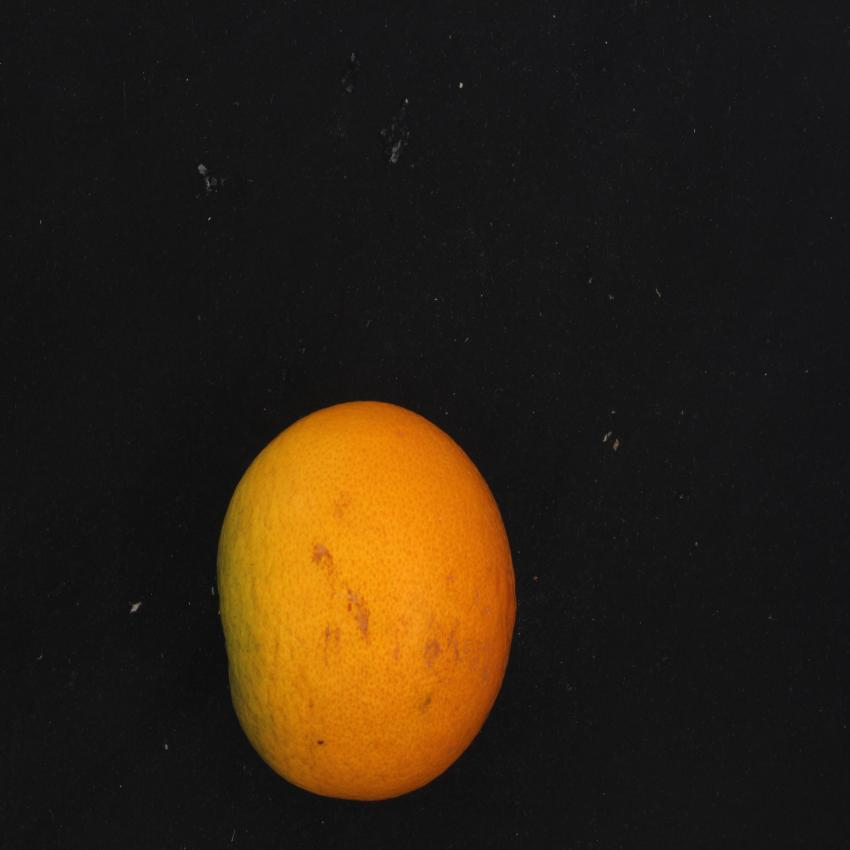Buen estado: (208, 385, 537, 809)
